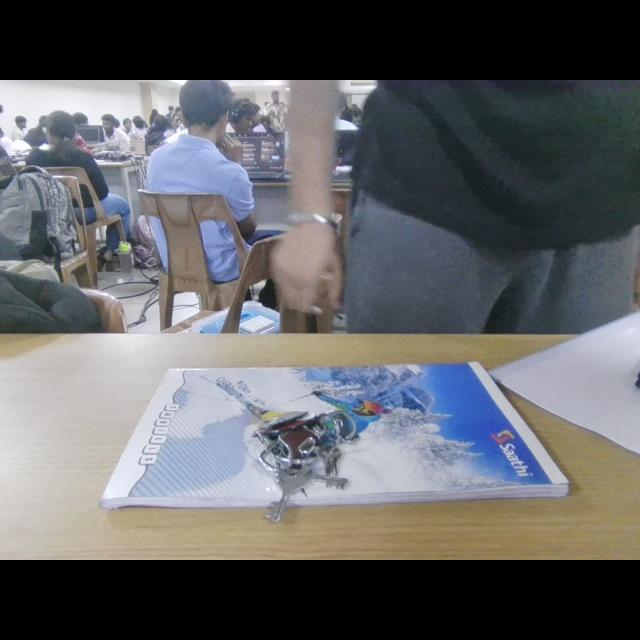keys: (248, 402, 358, 521)
